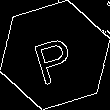P_N: (29, 25, 81, 85)
